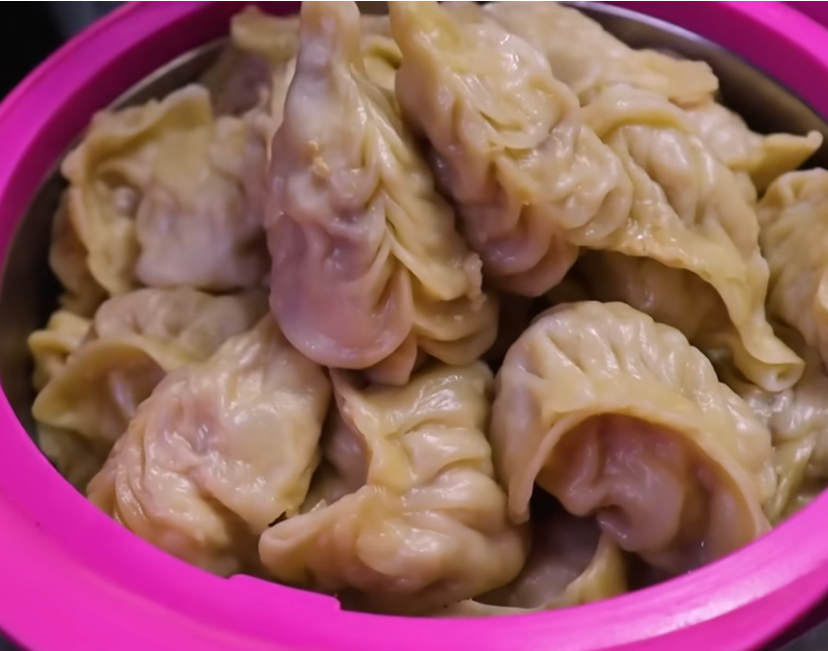momo: (257, 0, 500, 383), (387, 0, 663, 329), (490, 296, 773, 569), (251, 359, 530, 617), (80, 317, 320, 577), (54, 83, 280, 293)
